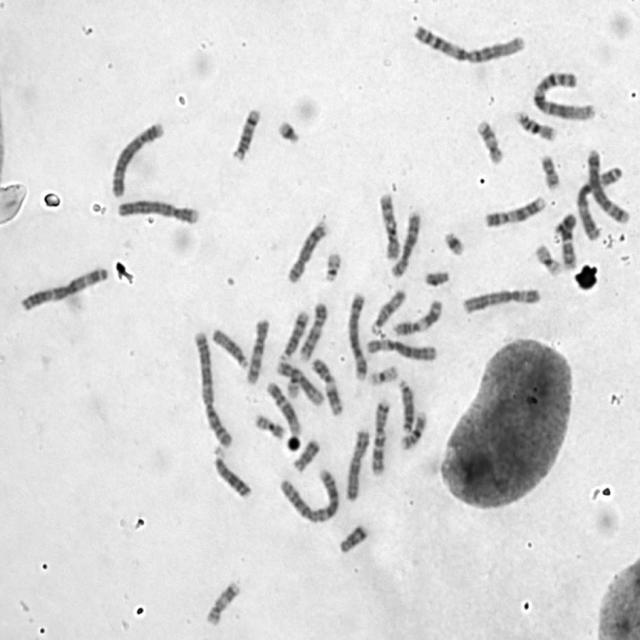A1: (413, 22, 525, 67), (531, 70, 597, 121)
A2: (192, 331, 233, 446), (278, 468, 341, 523)
A3: (20, 265, 110, 313), (576, 166, 622, 242)
B4: (109, 122, 166, 196), (118, 199, 201, 227)
B5: (586, 148, 630, 226), (347, 292, 368, 382)
C10: (244, 318, 270, 386), (377, 191, 402, 261)
C11: (310, 356, 344, 417), (392, 298, 444, 337)
C12: (275, 361, 326, 405), (266, 380, 303, 438)
C6: (460, 288, 541, 316), (367, 338, 437, 363)
C7: (370, 397, 392, 476), (555, 212, 580, 271)
C8: (287, 223, 328, 286), (391, 210, 423, 279)
C9: (484, 196, 548, 228), (298, 300, 330, 362)
D13: (212, 448, 253, 500), (394, 377, 415, 434)
D14: (229, 108, 260, 161), (280, 310, 308, 361)
D15: (211, 328, 249, 370), (372, 288, 406, 332)
E16: (514, 109, 558, 143), (398, 410, 428, 452)
E17: (205, 576, 241, 626), (476, 118, 504, 164)
E18: (290, 437, 320, 476), (336, 524, 372, 556)
F19: (534, 243, 562, 280), (368, 364, 400, 388)
F20: (538, 153, 563, 192), (254, 413, 286, 442)
G21: (278, 120, 302, 148), (442, 230, 466, 258)
G22: (321, 250, 343, 283), (287, 368, 301, 399)
X: (343, 430, 371, 504)
Y: (424, 270, 453, 292)
